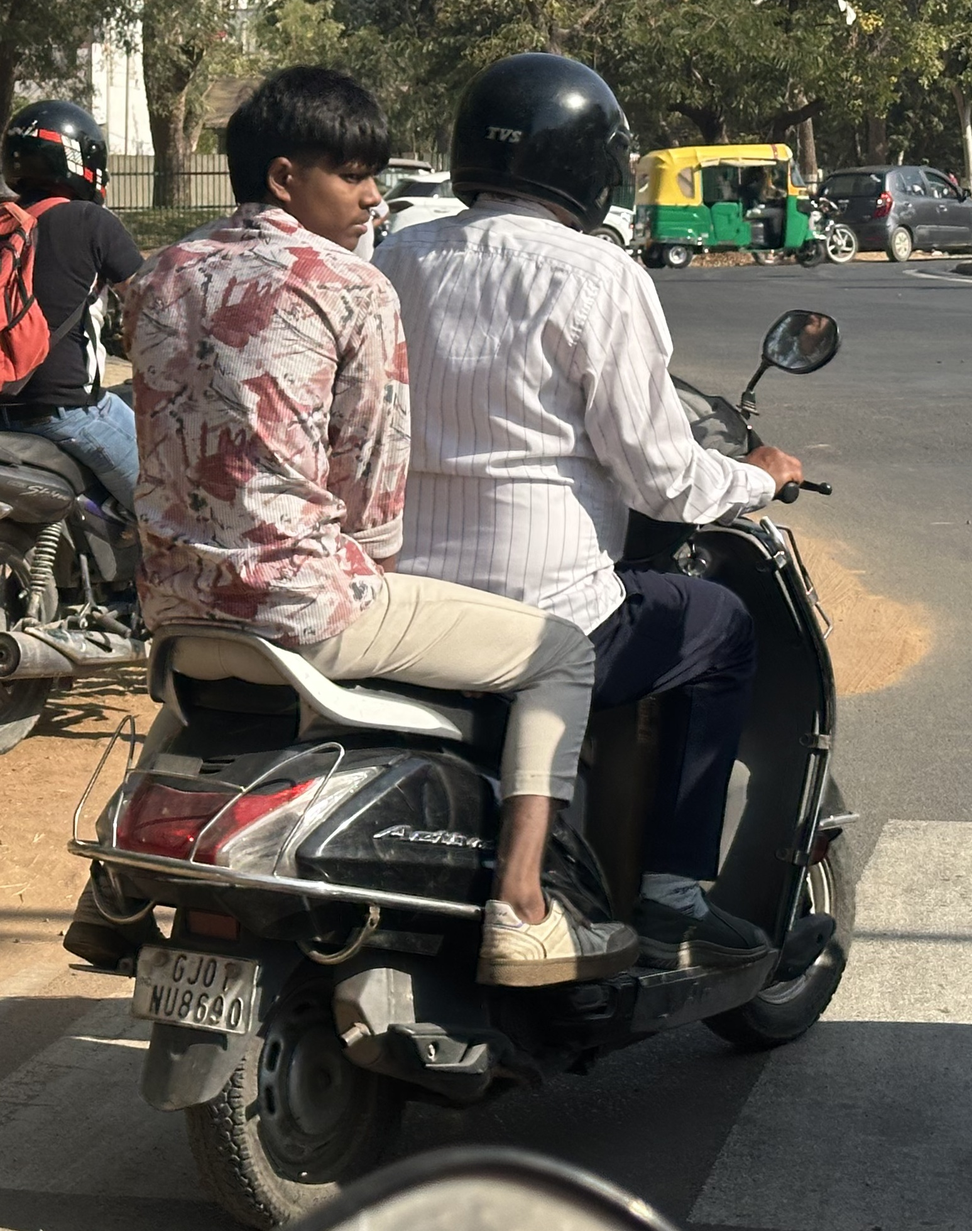BikeWithRider: (44, 36, 881, 1231), (0, 88, 171, 743)
Helmet: (432, 41, 649, 247), (0, 89, 123, 215)
NoHelmet: (205, 53, 407, 263)
